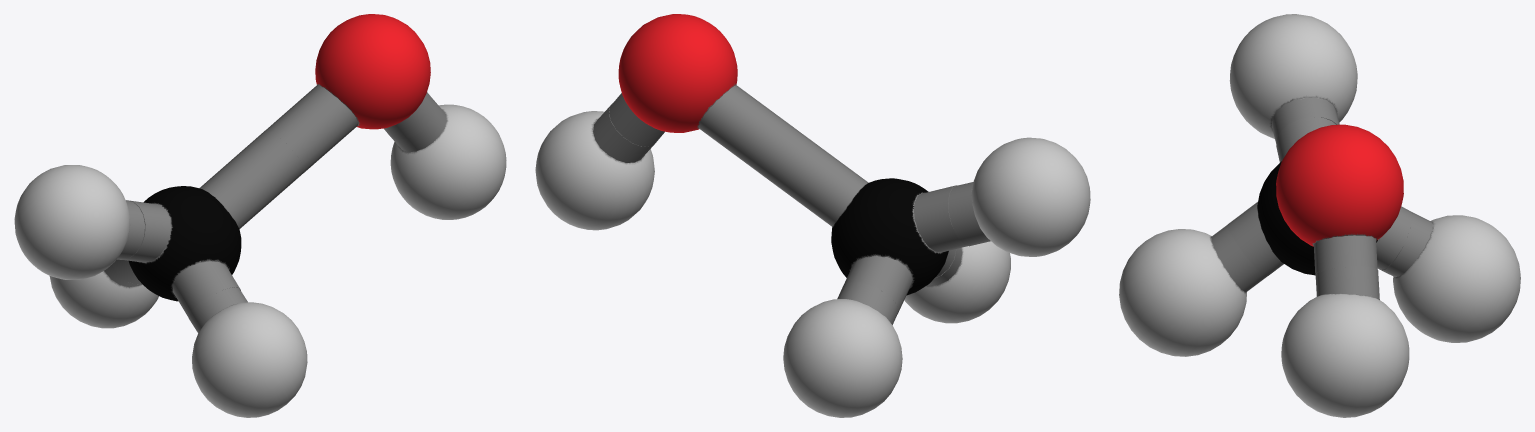
The model's file is methanol.glb.
The picture shows the model from 3 angles, left to right: view 1: azimuth 30°, elevation 25°; view 2: azimuth 150°, elevation 25°; view 3: azimuth 270°, elevation 25°; orthographic projection. The views are drawn at different scales.
Visible parts, largest first — view 1: mesh_id19, mesh_id18, mesh_id17, mesh_id15, mesh_id14, mesh_id4, mesh_id11, mesh_id16, mesh_id6, mesh_id9, mesh_id5, mesh_id13 (+2 smaller); view 2: mesh_id19, mesh_id16, mesh_id17, mesh_id15, mesh_id14, mesh_id4, mesh_id18, mesh_id11, mesh_id9, mesh_id7, mesh_id10, mesh_id12 (+2 smaller); view 3: mesh_id15, mesh_id18, mesh_id17, mesh_id16, mesh_id19, mesh_id14, mesh_id13, mesh_id6, mesh_id12, mesh_id5, mesh_id10, mesh_id8 (+2 smaller).
Boxes of the visible parts, x1,y1,x2,y2 form: mesh_id19: [14, 165, 130, 279]; mesh_id18: [192, 302, 307, 417]; mesh_id17: [315, 14, 430, 129]; mesh_id15: [390, 104, 506, 219]; mesh_id14: [128, 186, 241, 301]; mesh_id4: [199, 130, 304, 228]; mesh_id11: [266, 85, 358, 172]; mesh_id16: [49, 271, 158, 328]; mesh_id6: [172, 261, 240, 317]; mesh_id9: [123, 200, 170, 262]; mesh_id5: [188, 287, 247, 332]; mesh_id13: [384, 92, 435, 139]; mesh_id19: [971, 137, 1090, 256]; mesh_id16: [783, 299, 902, 417]; mesh_id17: [618, 14, 737, 132]; mesh_id15: [535, 111, 654, 230]; mesh_id14: [831, 178, 948, 295]; mesh_id4: [759, 128, 868, 226]; mesh_id18: [904, 241, 1010, 323]; mesh_id11: [698, 85, 793, 172]; mesh_id9: [914, 185, 967, 252]; mesh_id7: [843, 255, 912, 314]; mesh_id10: [948, 182, 990, 246]; mesh_id12: [593, 103, 653, 162]; mesh_id15: [1281, 293, 1409, 417]; mesh_id18: [1119, 229, 1246, 356]; mesh_id17: [1276, 124, 1403, 246]; mesh_id16: [1393, 215, 1520, 342]; mesh_id19: [1229, 14, 1357, 138]; mesh_id14: [1257, 161, 1377, 275]; mesh_id13: [1313, 235, 1377, 275]; mesh_id6: [1227, 202, 1283, 276]; mesh_id12: [1315, 266, 1379, 299]; mesh_id5: [1211, 224, 1266, 292]; mesh_id10: [1271, 97, 1339, 143]; mesh_id8: [1381, 212, 1432, 277].
Bounding box in the file's own units: 0.605 × 0.3402 × 0.381.
16 materials, 16 textured.
